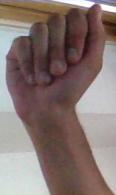A: (1, 3, 116, 114)
